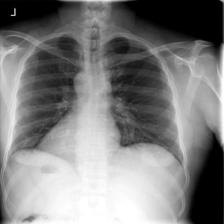normal: (7, 30, 188, 171)
